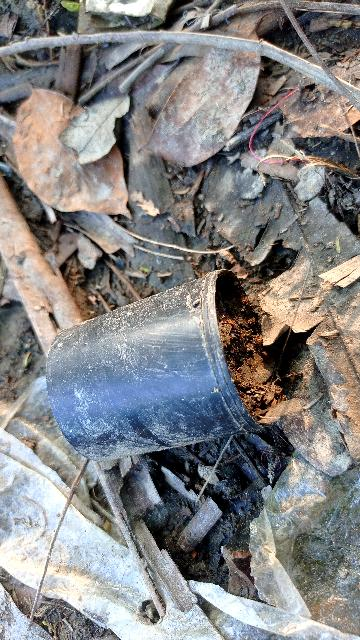hardplastic: (36, 266, 264, 474)
